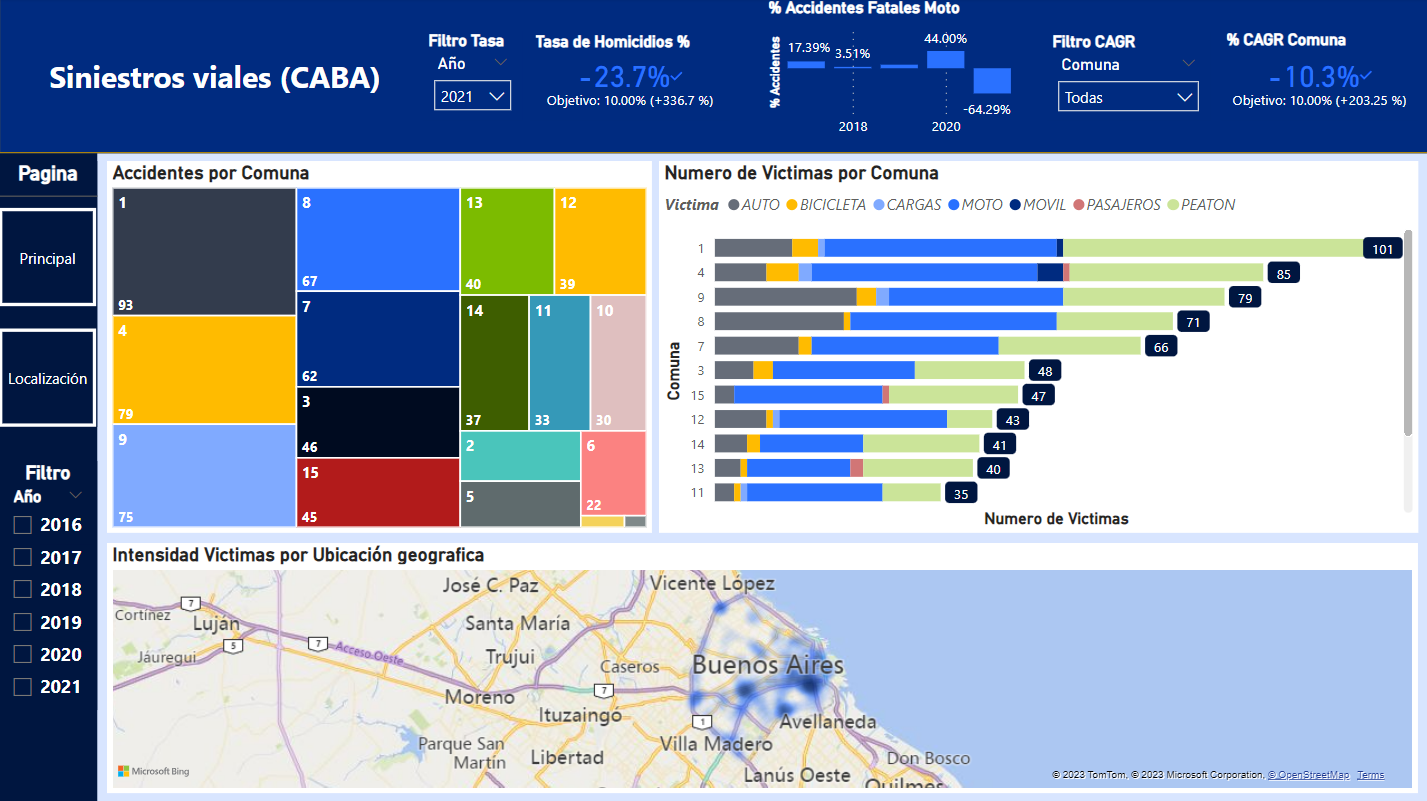

Layout of this report page (visuals, bound fields, positions):
{"tool":"powerbi","page":{"name":"Localización","canvas":[1280,720],"ordinal":1},"visuals":[{"type":"shape","box":[0,138.8,87.8,581.2],"z":0},{"type":"shape","box":[0,0,1279.7,138.8],"z":1000},{"type":"textbox","box":[26.9,46.6,333.1,45.7],"z":2000},{"type":"barChart","title":"Numero de Victimas por Comuna","fields":{"Category":["hechosyvictimas.Comuna"],"Y":["Sum(hechosyvictimas.Numero_Victimas)"],"Series":["hechosyvictimas.Victima"]},"box":[591,146,679.7,333.1],"z":3000},{"type":"slicer","title":"Filtro","fields":{"Values":["LocalDateTable_4db570c2-8ebb-436c-9762-037321cdac86.Año"]},"box":[0,414.6,87.8,223],"z":4000},{"type":"pageNavigator","title":"Pagina","box":[0,146,87.8,238.2],"z":5000},{"type":"slicer","title":"Filtro Tasa ","fields":{"Values":["Calendario.Año"]},"box":[379.7,29.6,88.7,79.7],"z":6000},{"type":"slicer","title":"Filtro CAGR","fields":{"Values":["hechosyvictimas.Comuna"]},"box":[938.5,30.4,146,78.8],"z":7000},{"type":"treemap","title":"Accidentes por Comuna","fields":{"Group":["hechosyvictimas.Comuna"],"Values":["CountNonNull(hechosyvictimas.ID)"]},"box":[96.7,146,488.1,333.1],"z":8000},{"type":"map","title":"Intensidad  Victimas por Ubicación geografica","fields":{"Y":["hechosyvictimas.Latitud"],"X":["hechosyvictimas.Longitud"],"Size":["Sum(hechosyvictimas.Numero_Victimas)"]},"box":[96.7,488.1,1174,223.9],"z":9000},{"type":"kpi","title":"Tasa de Homicidios %","fields":{"TrendLine":["Calendario.Año"],"Indicator":["Medidas.Victimas %"],"Goal":["Medidas.Objetivo victimas"]},"box":[475.5,30.4,179.1,78.8],"z":10000},{"type":"clusteredColumnChart","title":"% Accidentes Fatales Moto","fields":{"Category":["Calendario.Año"],"Y":["Medidas.% Accidentes Fatales Moto"]},"box":[684.2,0,226.6,132.5],"z":11000},{"type":"kpi","title":"% CAGR Comuna","fields":{"Indicator":["Medidas.% CAGR Comuna"],"Goal":["Medidas.Objetivo victimas"],"TrendLine":["Calendario.Año"]},"box":[1094.3,28.7,176.4,81.5],"z":12000}]}

Visuals, with their boxes in screenshot pixels (x1, y1, x2, y2), scaled from the page's 1280x720 canvas onto the 1427x801 screenshot:
shape: [left=0, top=154, right=98, bottom=800]
shape: [left=0, top=0, right=1426, bottom=154]
textbox: [left=30, top=52, right=401, bottom=103]
"Numero de Victimas por Comuna" barChart: [left=659, top=162, right=1417, bottom=533]
"Filtro" slicer: [left=0, top=461, right=98, bottom=709]
"Pagina" pageNavigator: [left=0, top=162, right=98, bottom=427]
"Filtro Tasa " slicer: [left=423, top=33, right=522, bottom=122]
"Filtro CAGR" slicer: [left=1046, top=34, right=1209, bottom=121]
"Accidentes por Comuna" treemap: [left=108, top=162, right=652, bottom=533]
"Intensidad  Victimas por Ubicación geografica" map: [left=108, top=543, right=1417, bottom=792]
"Tasa de Homicidios %" kpi: [left=530, top=34, right=730, bottom=121]
"% Accidentes Fatales Moto" clusteredColumnChart: [left=763, top=0, right=1015, bottom=147]
"% CAGR Comuna" kpi: [left=1220, top=32, right=1417, bottom=123]
